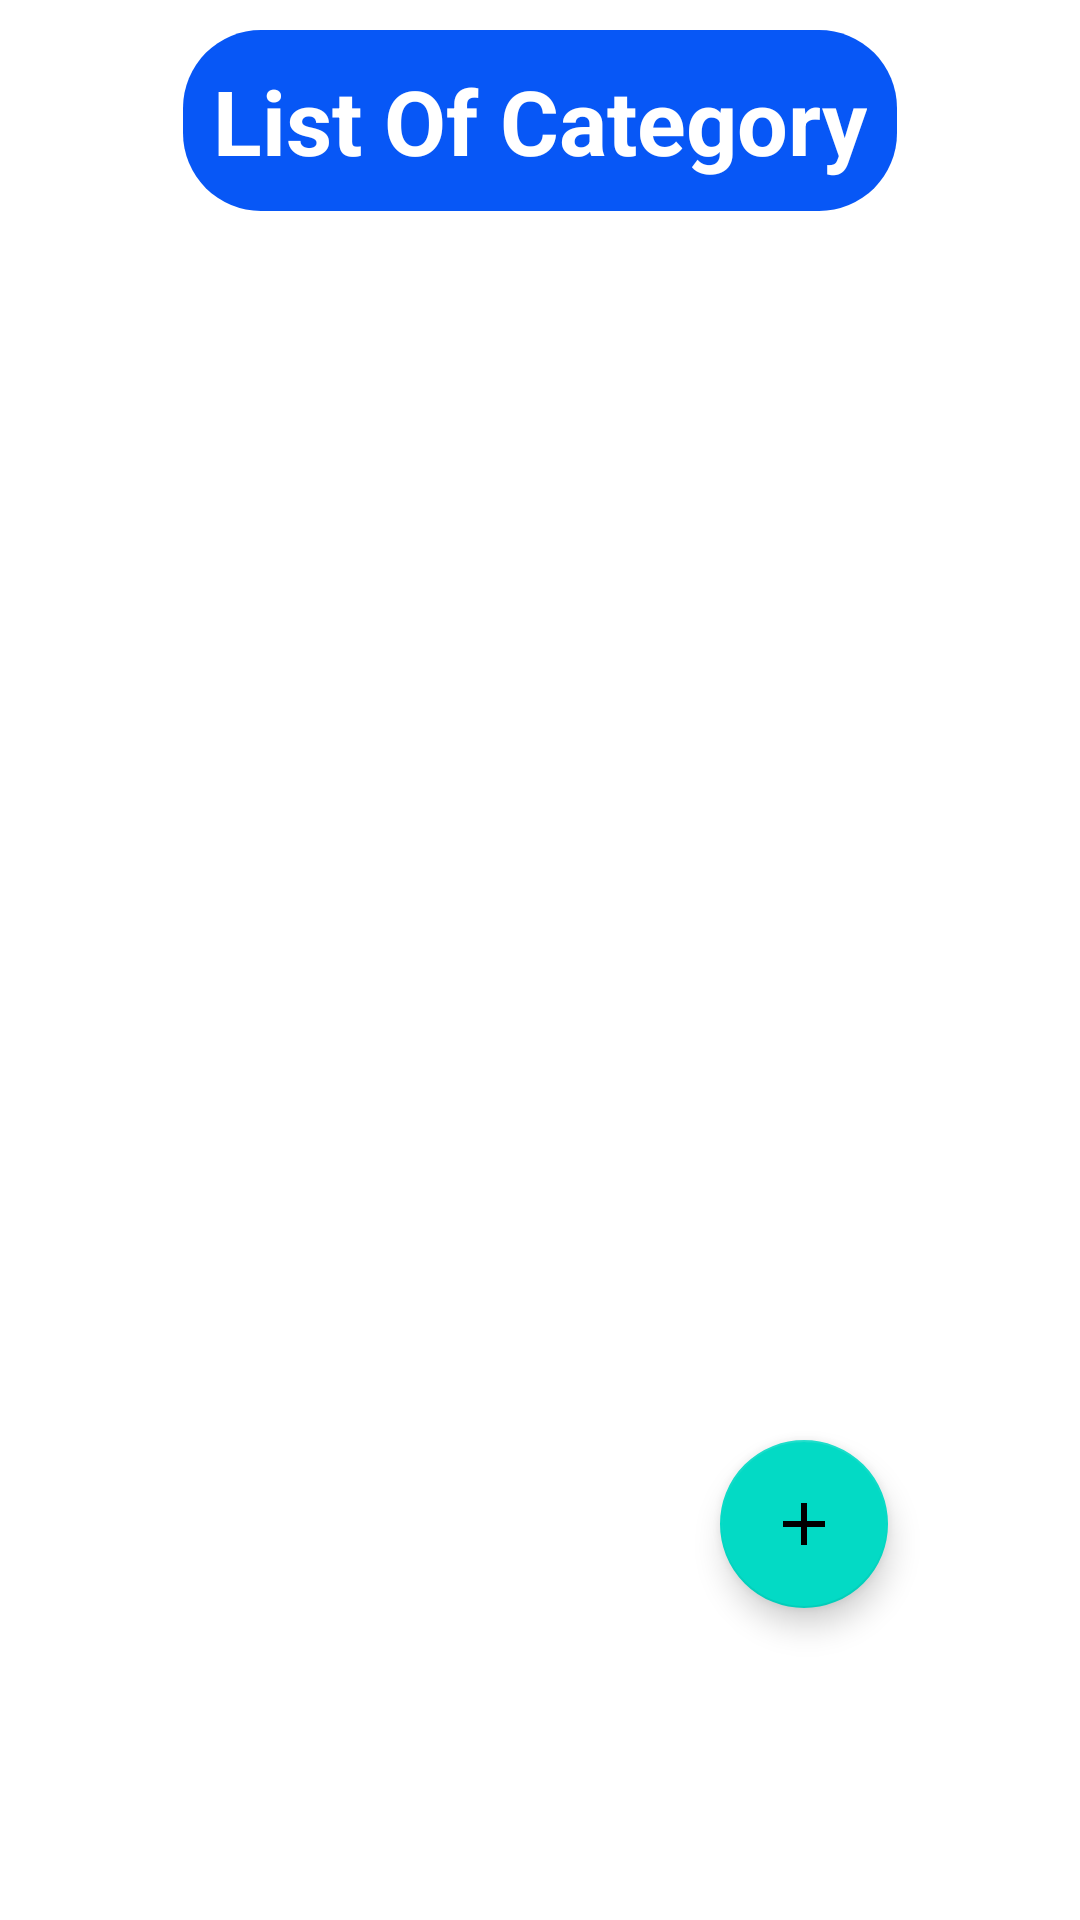

Icons on this 1080x1920 Android screen, each with its box as (x1, y1, x2, y2):
add: (720, 1440, 888, 1608)
